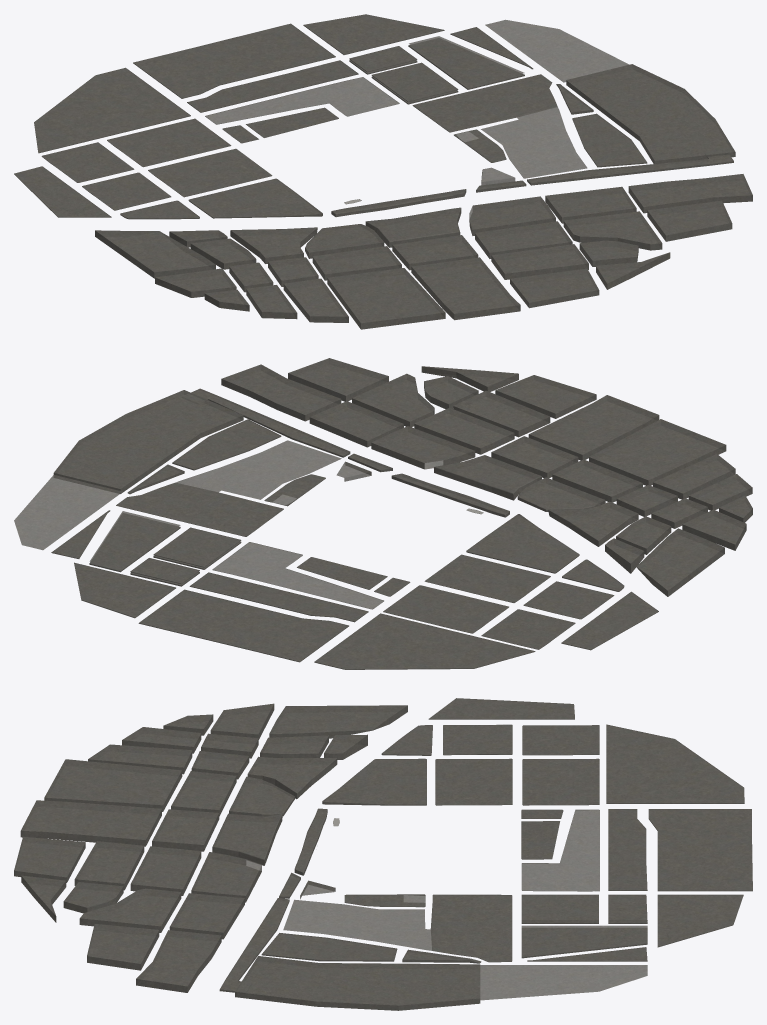
The model's file is transparents sidewalk.glb.
3 views of the same model, one above another, from view 1: azimuth 30°, elevation 25°; view 2: azimuth 150°, elevation 25°; view 3: azimuth 270°, elevation 25° (orthographic). The views are drawn at different scales.
Visible parts, largest first — view 1: transparents sidewalk; view 2: transparents sidewalk; view 3: transparents sidewalk.
Boxes of the visible parts, <box> form: transparents sidewalk: <box>14,14,752,329</box>; transparents sidewalk: <box>14,358,752,669</box>; transparents sidewalk: <box>14,698,752,1010</box>.
Size of the model in its own units: 87.05 by 1.79 by 87.84.
Materials: 1 (1 with a texture image).
